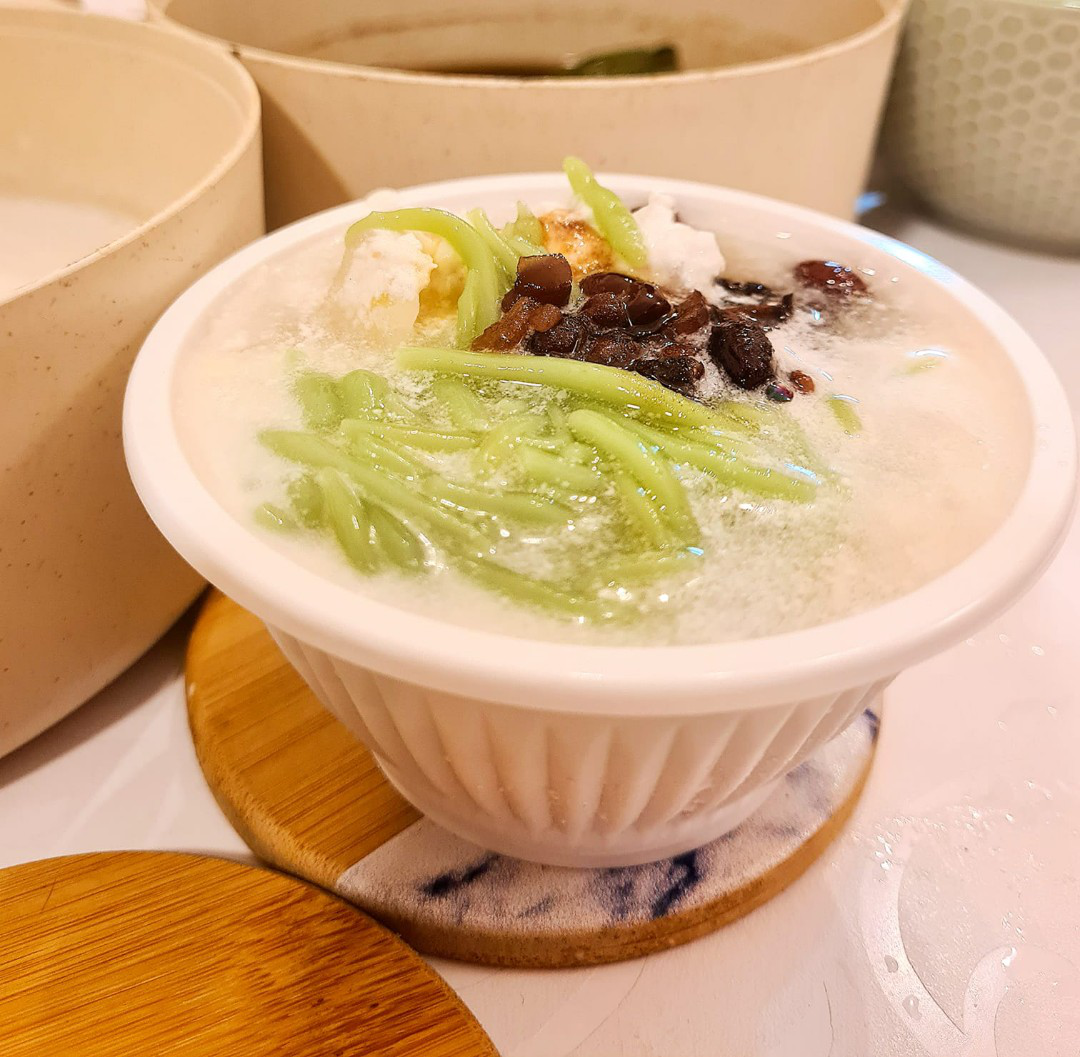Chendol: (176, 163, 998, 751)
